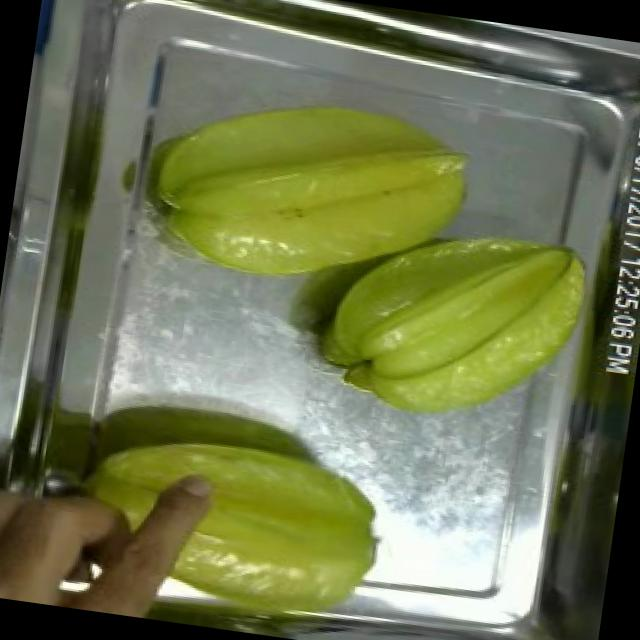fruit: (128, 59, 493, 320), (305, 199, 605, 445), (151, 419, 392, 640), (0, 463, 127, 613)
